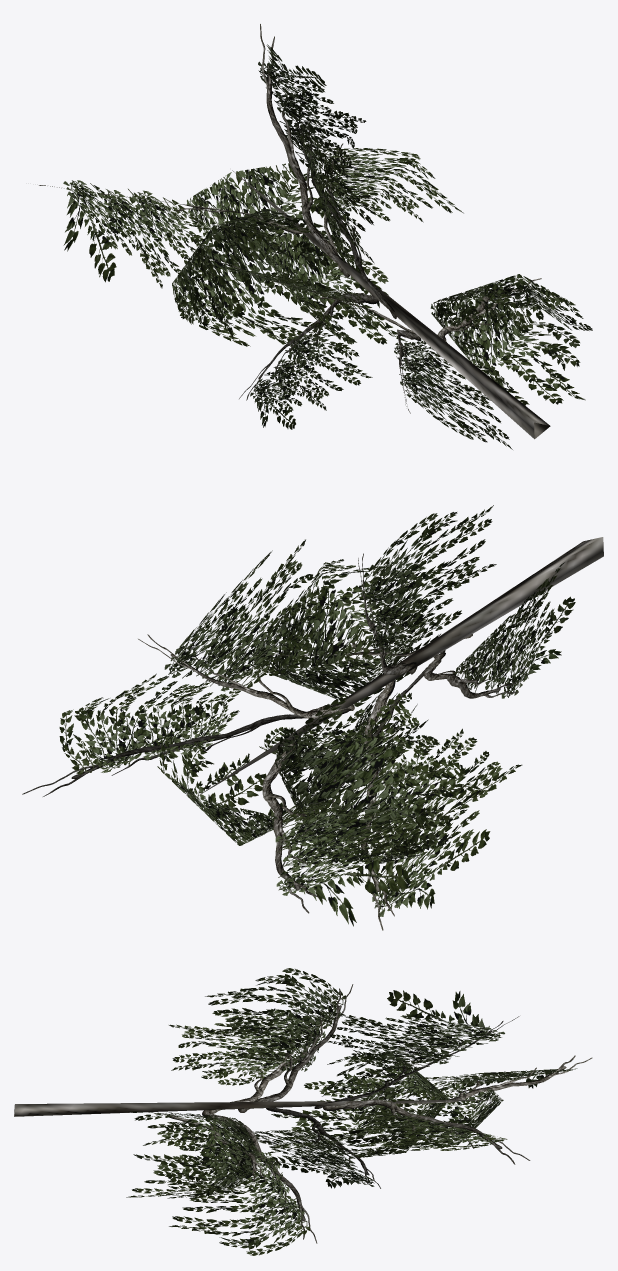
The model's file is MEP_Birch_01_a_LOD_02.fbx.
The picture shows the model from 3 angles, top to bottom: view 1: azimuth 30°, elevation 25°; view 2: azimuth 150°, elevation 25°; view 3: azimuth 270°, elevation 25°; orthographic projection. The views are drawn at different scales.
Parts seen in each view (by area): view 1: MEP_Birch_01_LOD_02; view 2: MEP_Birch_01_LOD_02; view 3: MEP_Birch_01_LOD_02.
Part boxes in pixels (box(x1,y1,x2,y2)): MEP_Birch_01_LOD_02: box(39, 24, 592, 449); MEP_Birch_01_LOD_02: box(22, 505, 603, 930); MEP_Birch_01_LOD_02: box(14, 968, 592, 1255).
Bounding box in the file's own units: 5.9 × 5.8 × 12.22.
